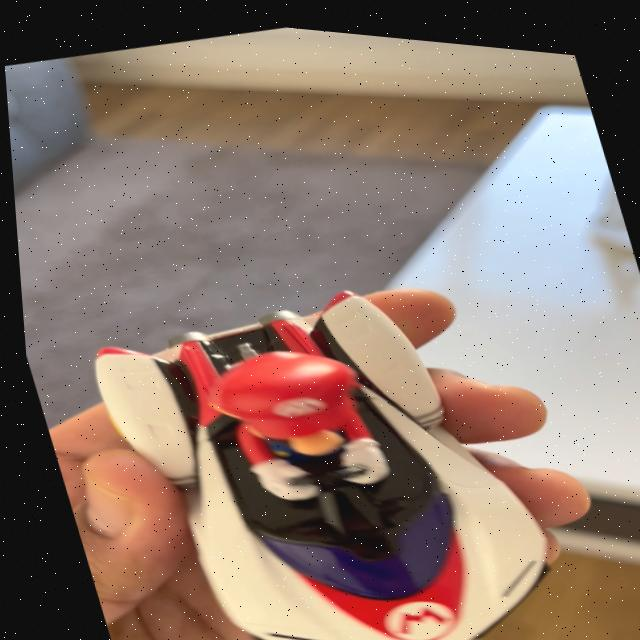mario: (55, 224, 593, 640)
